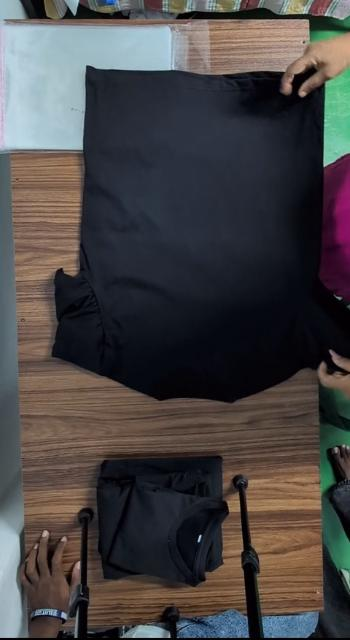new-garment: (53, 67, 350, 402)
